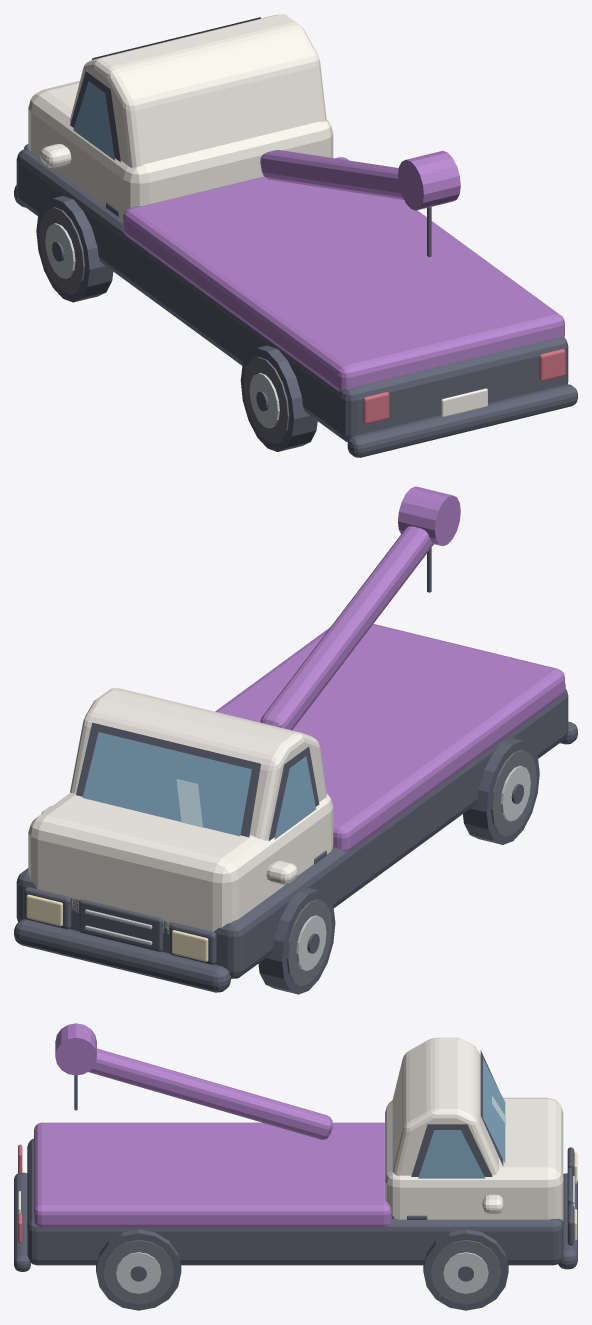
Rendered from tow-truck.glb.
The picture shows the model from 3 angles, top to bottom: view 1: azimuth 30°, elevation 25°; view 2: azimuth 150°, elevation 25°; view 3: azimuth 270°, elevation 25°; orthographic projection. The views are drawn at different scales.
Visible parts, largest first — view 1: Recovery_bed, Shaped_passenger_cabin, Truck_chassis, Cab_lower, Rear_bumper, Crane_boom, Crane_top, Rubber_tire, Rubber_tire.002, Side_glass, Wheel_sidewall, Wheel_sidewall.002 (+7 smaller); view 2: Recovery_bed, Cab_lower, Truck_chassis, Shaped_passenger_cabin, Blue_windscreen, Crane_boom, Front_bumper, Rubber_tire.002, Rubber_tire, Crane_top, Dark_windscreen_seal, Grille (+11 smaller); view 3: Recovery_bed, Truck_chassis, Cab_lower, Shaped_passenger_cabin, Crane_boom, Side_glass.001, Wheel_sidewall.001, Wheel_sidewall.003, Rubber_tire.003, Rubber_tire.001, Crane_top, Blue_windscreen (+7 smaller).
Part boxes in pixels (left/top/right/bottom): Recovery_bed: left=123, top=157, right=564, bottom=391; Shaped_passenger_cabin: left=70, top=14, right=326, bottom=205; Truck_chassis: left=16, top=147, right=568, bottom=442; Cab_lower: left=28, top=80, right=333, bottom=219; Rear_bumper: left=347, top=384, right=577, bottom=457; Crane_boom: left=260, top=150, right=403, bottom=199; Crane_top: left=398, top=150, right=460, bottom=210; Rubber_tire: left=36, top=196, right=113, bottom=302; Rubber_tire.002: left=240, top=345, right=317, bottom=451; Side_glass: left=73, top=81, right=114, bottom=160; Wheel_sidewall: left=39, top=207, right=84, bottom=293; Wheel_sidewall.002: left=243, top=357, right=289, bottom=443; Recovery_bed: left=215, top=624, right=564, bottom=852; Cab_lower: left=28, top=792, right=333, bottom=934; Truck_chassis: left=16, top=688, right=568, bottom=978; Shaped_passenger_cabin: left=70, top=688, right=326, bottom=840; Blue_windscreen: left=82, top=732, right=251, bottom=836; Crane_boom: left=260, top=526, right=433, bottom=730; Front_bumper: left=14, top=919, right=230, bottom=992; Rubber_tire.002: left=463, top=738, right=539, bottom=844; Rubber_tire: left=258, top=888, right=335, bottom=994; Crane_top: left=398, top=486, right=460, bottom=546; Dark_windscreen_seal: left=76, top=722, right=260, bottom=837; Grille: left=79, top=899, right=162, bottom=951; Recovery_bed: left=34, top=1122, right=391, bottom=1227; Truck_chassis: left=27, top=1138, right=563, bottom=1265; Cab_lower: left=385, top=1097, right=563, bottom=1220; Shaped_passenger_cabin: left=385, top=1037, right=499, bottom=1201; Crane_boom: left=88, top=1048, right=332, bottom=1139; Side_glass.001: left=418, top=1130, right=485, bottom=1178; Wheel_sidewall.001: left=430, top=1240, right=501, bottom=1304; Wheel_sidewall.003: left=103, top=1240, right=174, bottom=1304; Rubber_tire.003: left=96, top=1229, right=181, bottom=1310; Rubber_tire.001: left=423, top=1229, right=508, bottom=1310; Crane_top: left=55, top=1023, right=96, bottom=1075; Blue_windscreen: left=483, top=1058, right=505, bottom=1163.
Size of the model in its own units: 2.51 by 2.7 by 5.94.
